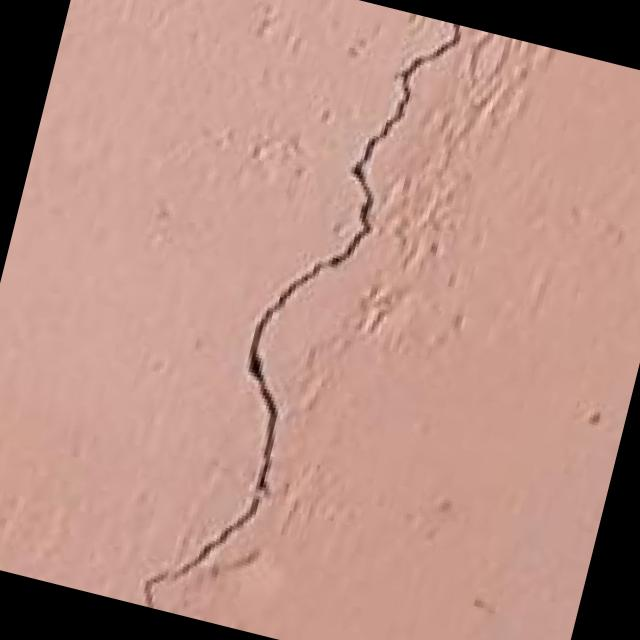crack: (128, 0, 475, 640)
